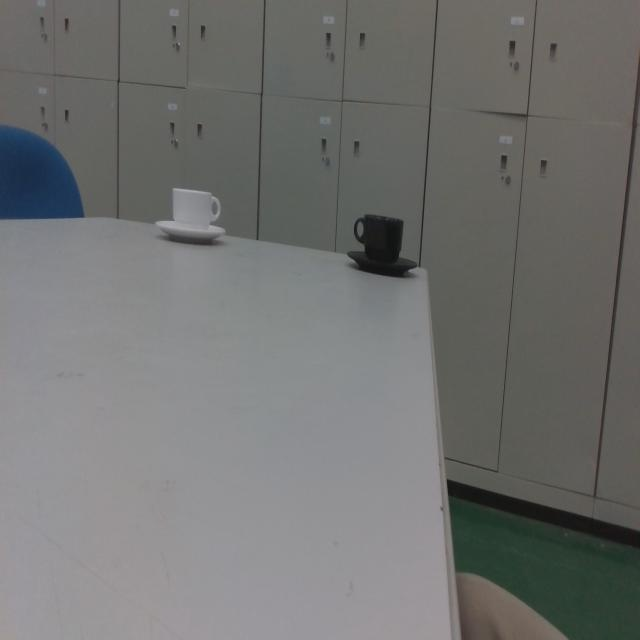black: (350, 209, 420, 278)
white: (158, 182, 230, 255)
